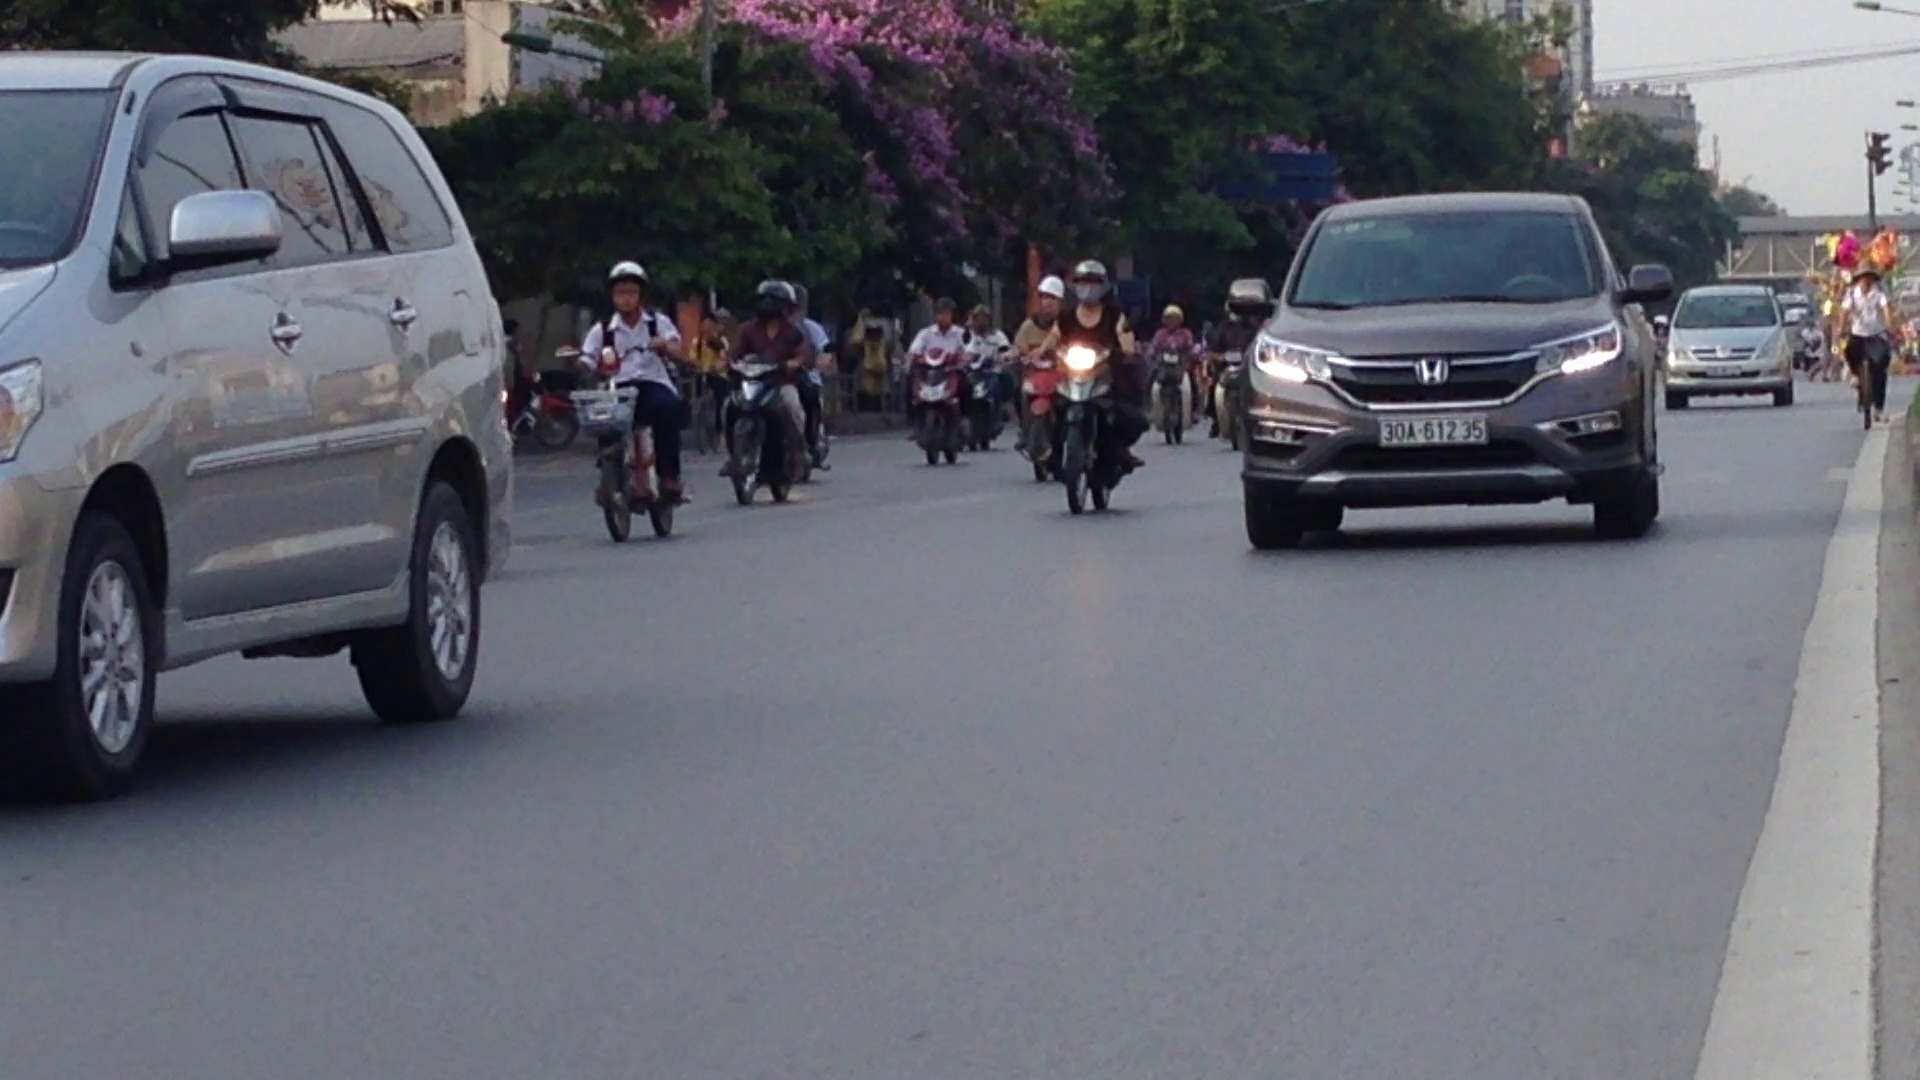vehicle-plate: (1371, 412, 1491, 448)
